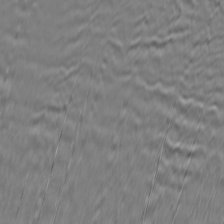cavities: (0, 10, 160, 191)
